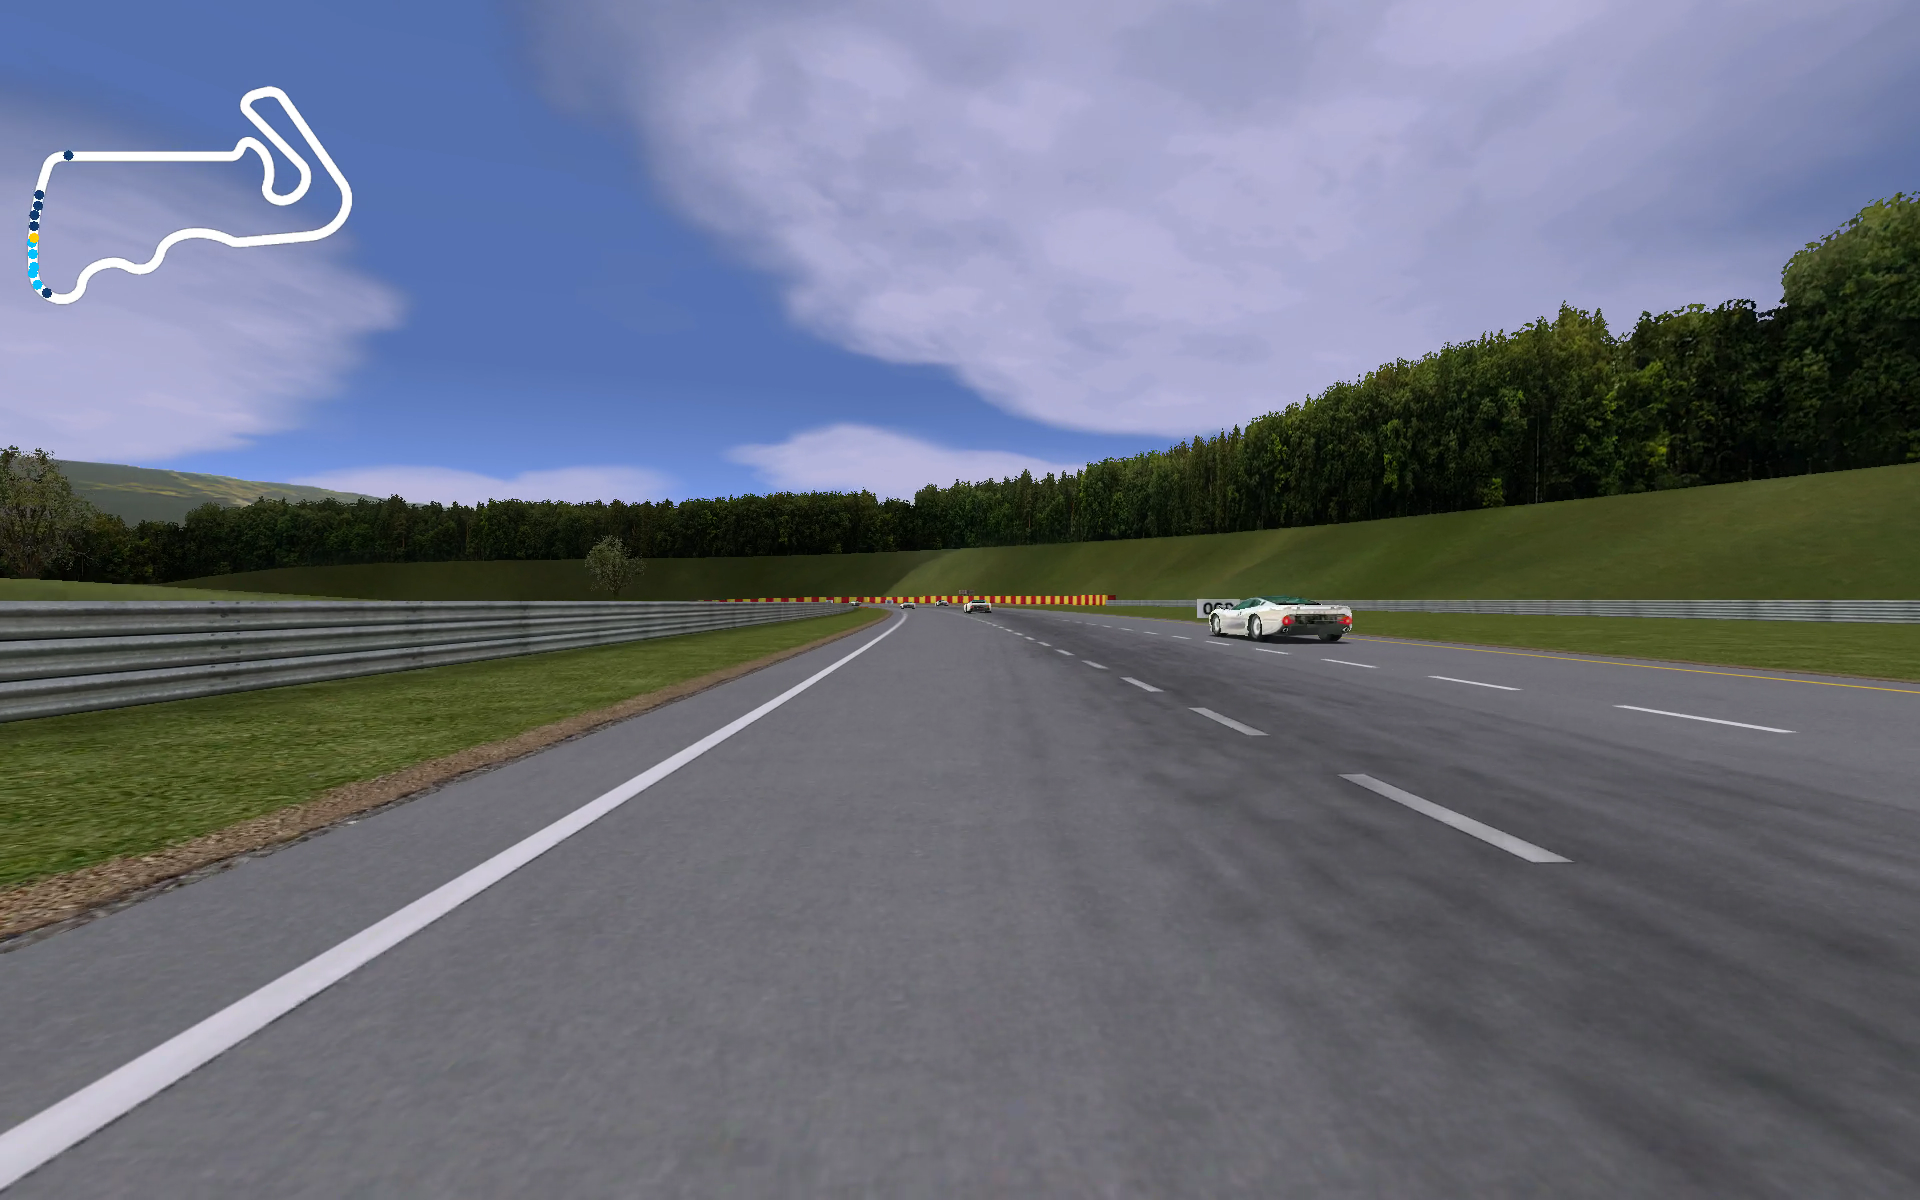car: (1207, 594, 1357, 644), (959, 596, 990, 615)
